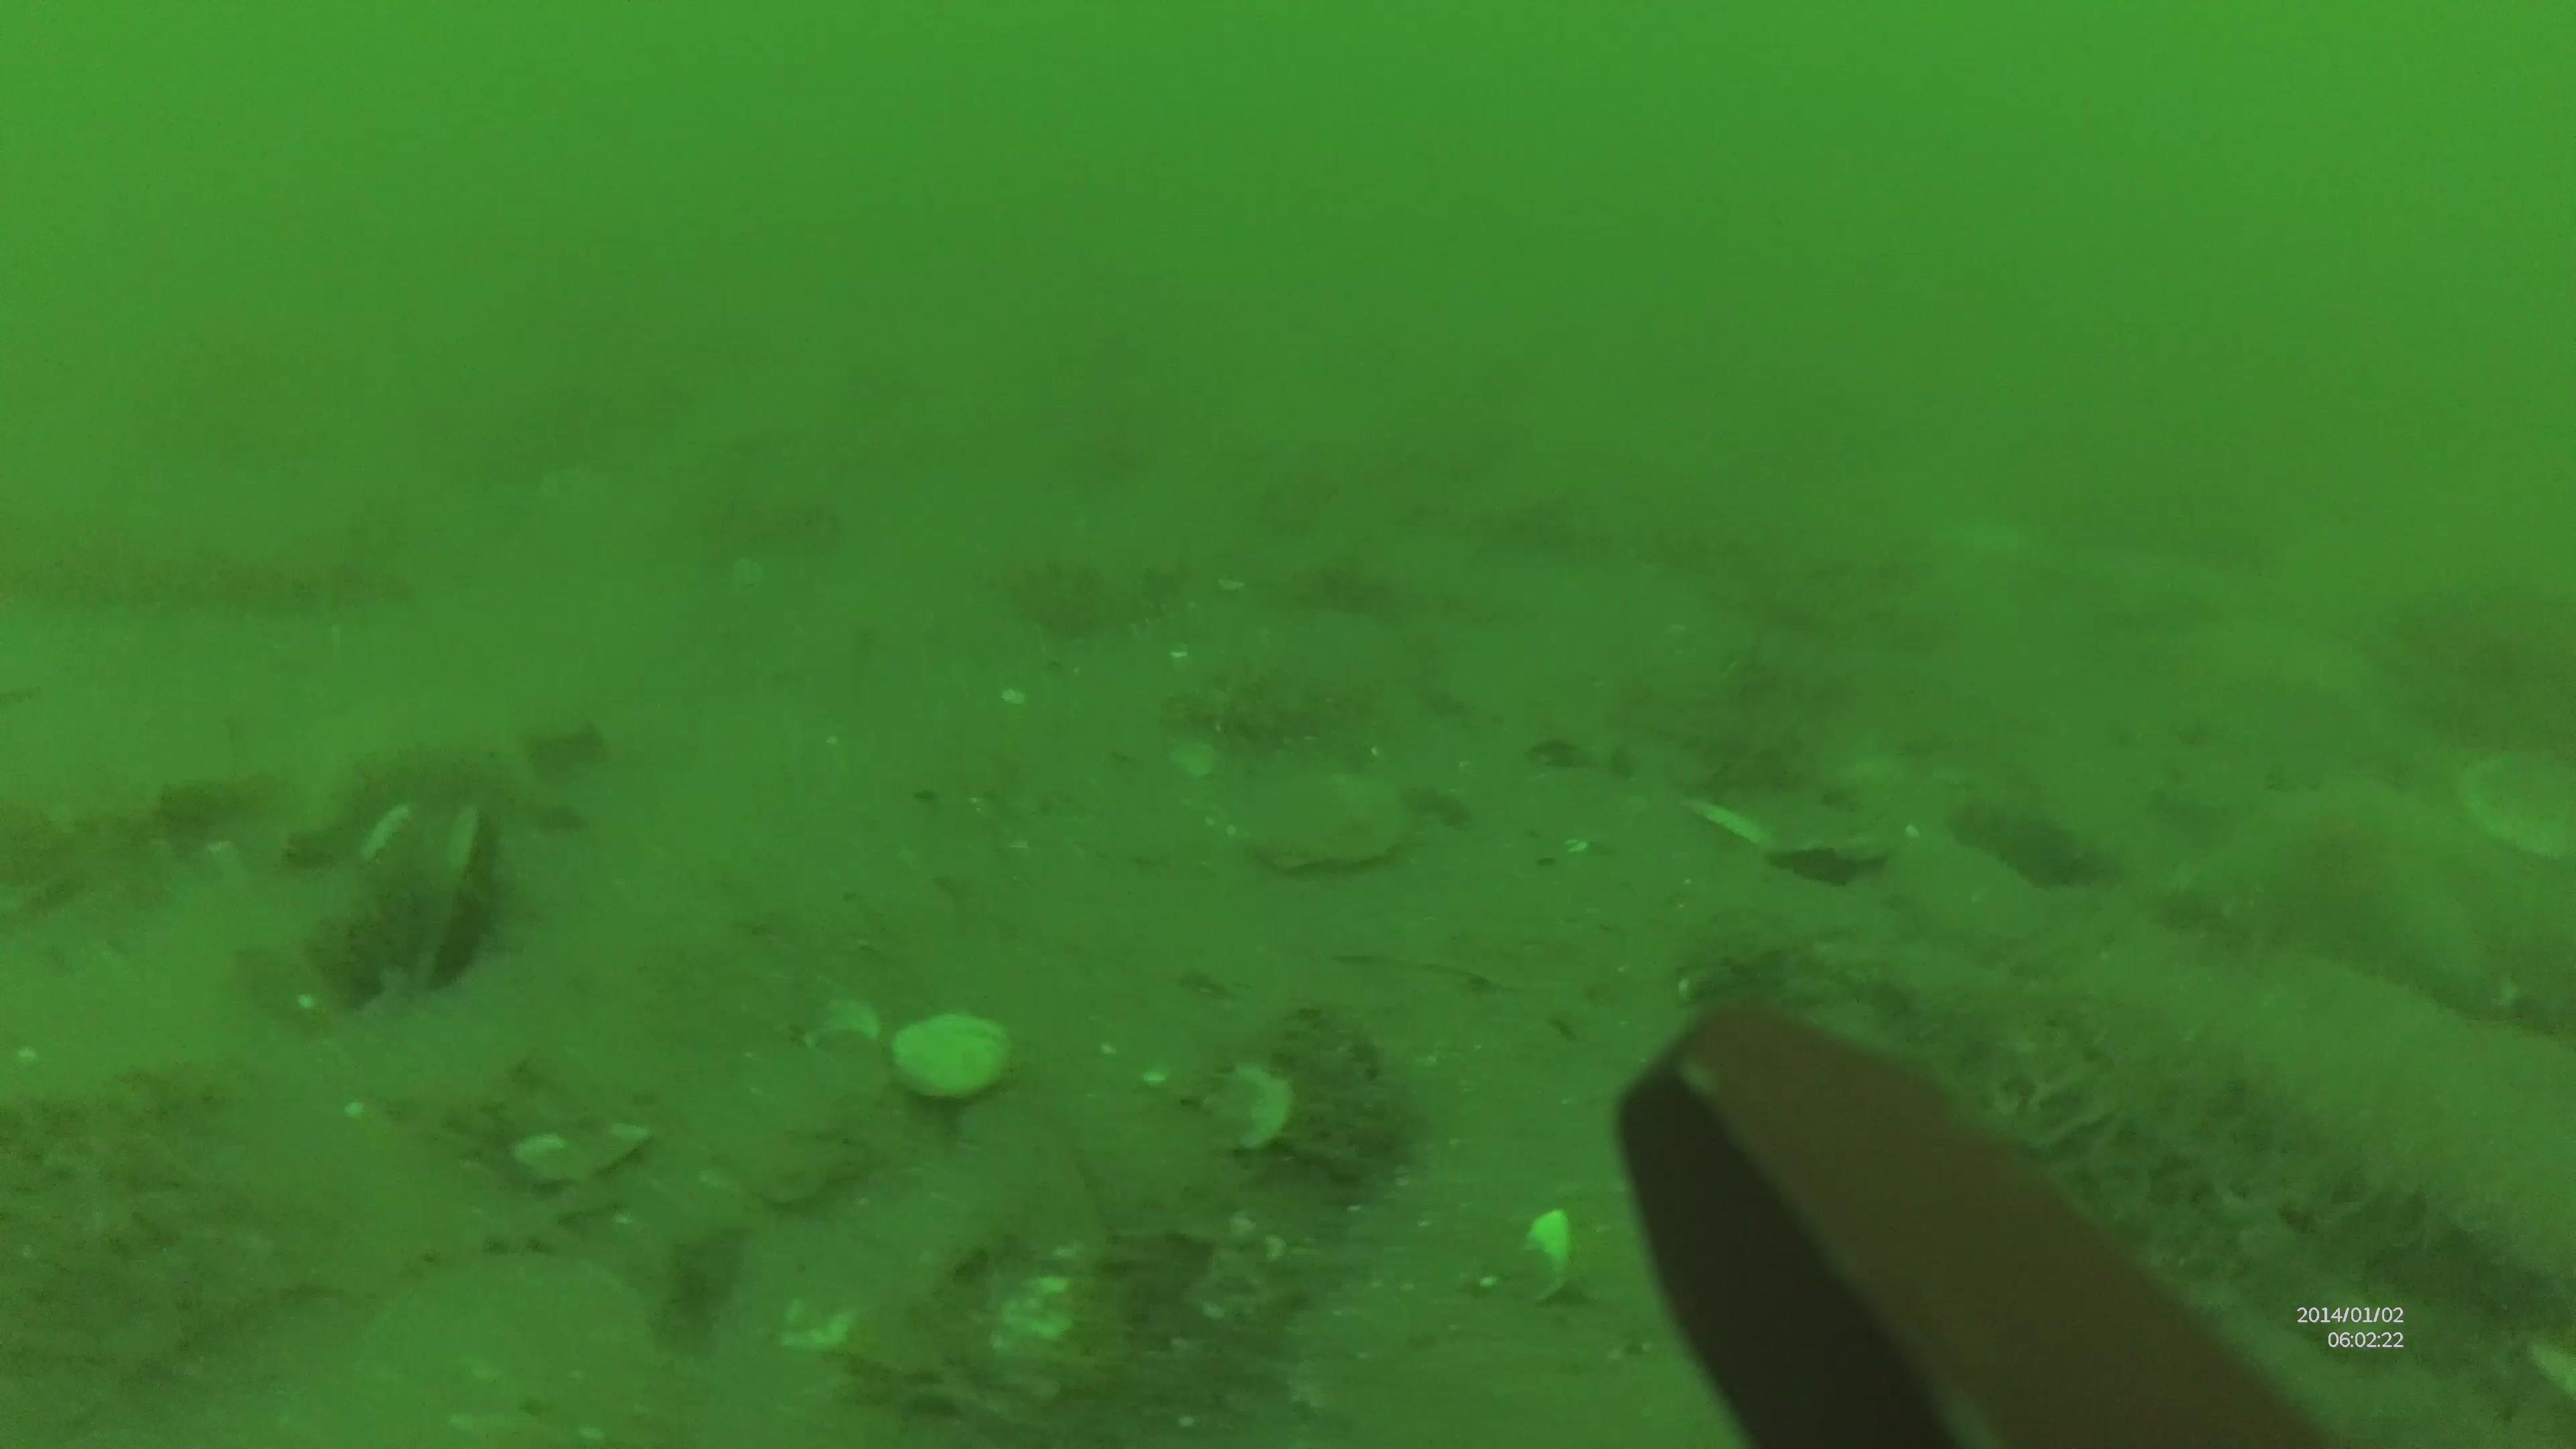scallop: (893, 1016, 1012, 1102)
